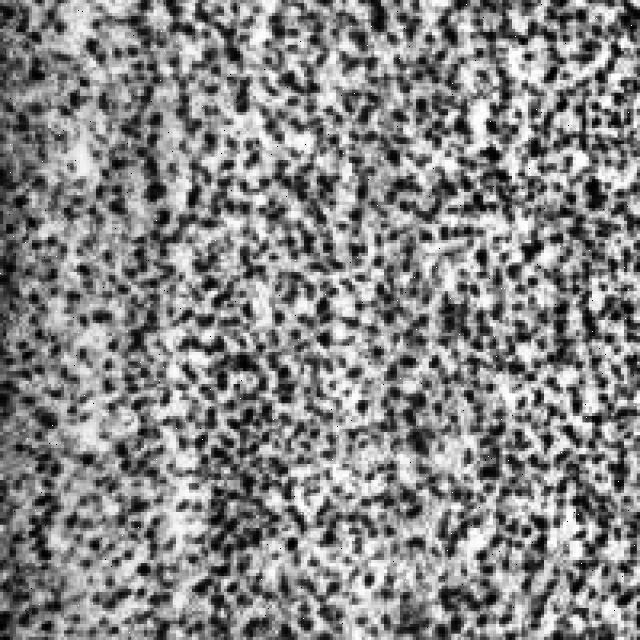Rolled_in_Scale: (10, 0, 640, 637)
